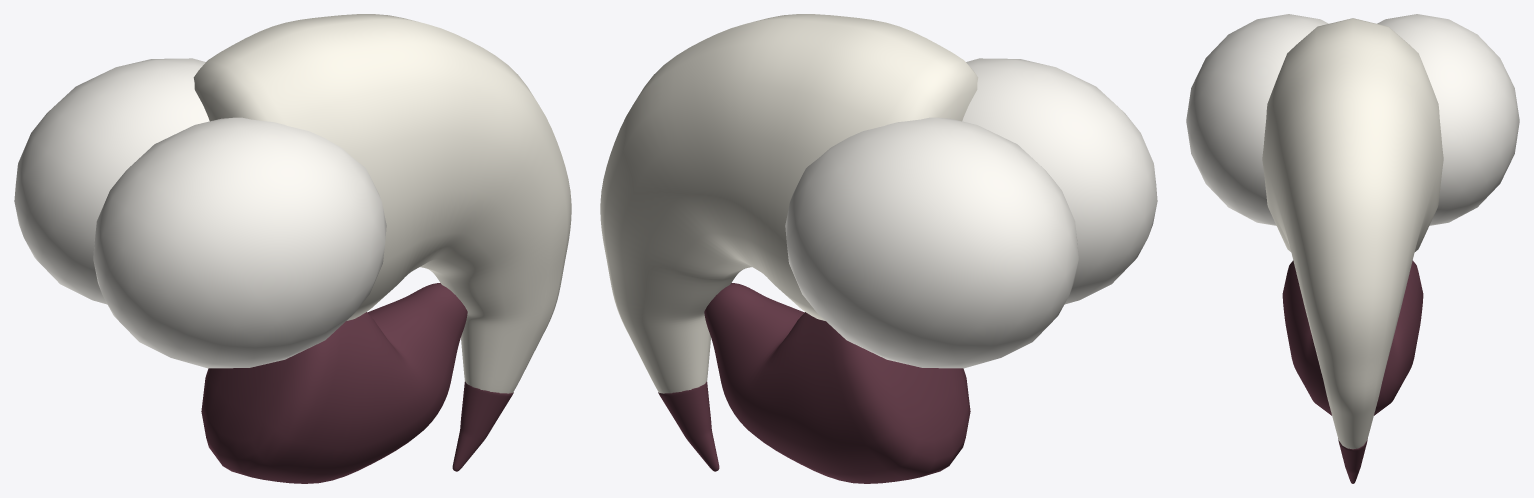
Rendered from creature.parrotbeak.glb.
The picture shows the model from 3 angles, left to right: view 1: azimuth 30°, elevation 25°; view 2: azimuth 150°, elevation 25°; view 3: azimuth 270°, elevation 25°; orthographic projection. The views are drawn at different scales.
Parts seen in each view (by area): view 1: Down, Claw, Dark; view 2: Down, Claw, Dark; view 3: Claw, Down, Dark.
Boxes of the visible parts, left/top/right/bottom form: Down: left=14, top=58, right=386, bottom=368; Claw: left=193, top=14, right=571, bottom=393; Dark: left=201, top=283, right=513, bottom=483; Down: left=785, top=58, right=1157, bottom=368; Claw: left=600, top=14, right=978, bottom=393; Dark: left=658, top=283, right=970, bottom=483; Claw: left=1262, top=18, right=1443, bottom=449; Down: left=1186, top=14, right=1519, bottom=225; Dark: left=1282, top=260, right=1423, bottom=483.
Bounding box in the file's own units: 3.65 × 3.35 × 2.6.
